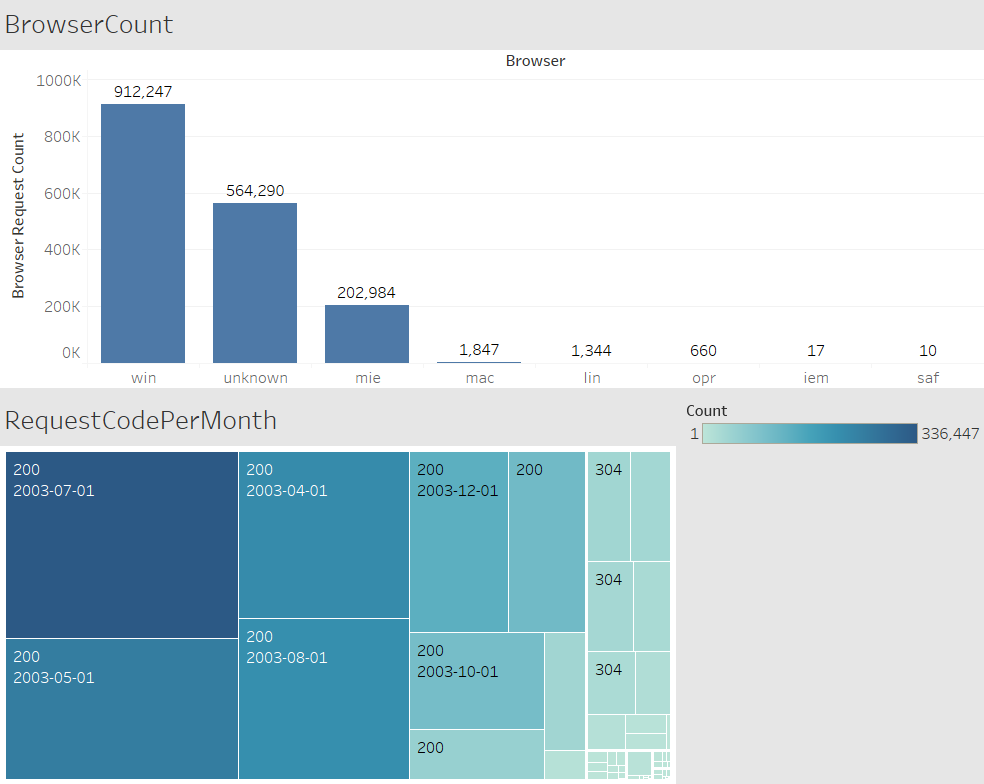

What the dashboard file says about the page in this screenshot:
{"tool":"tableau","page":{"name":"Dashboard 2","canvas":[1000,800],"ordinal":1},"visuals":[{"type":"worksheet","title":"BrowserCount","mark":"Automatic","rows":["browserRequestCount"],"cols":["browser"],"box":[0,0,996,400]},{"type":"worksheet","title":"RequestCodePerMonth","mark":"Automatic","box":[0,400,687,400]},{"type":"legend","title":"RequestCodePerMonth","param":"[federated.1l8bisn1hwbjyx1ebepyu003f37u].[sum:count:qk]","box":[687,400,309,73]}]}

Visuals, with their boxes in screenshot pixels (x1, y1, x2, y2), scaled from the page's 1000x800 canvas onto the 984x784 screenshot:
"BrowserCount" worksheet: select_region(0, 0, 980, 392)
"RequestCodePerMonth" worksheet: select_region(0, 392, 676, 783)
"RequestCodePerMonth" legend: select_region(676, 392, 980, 464)
